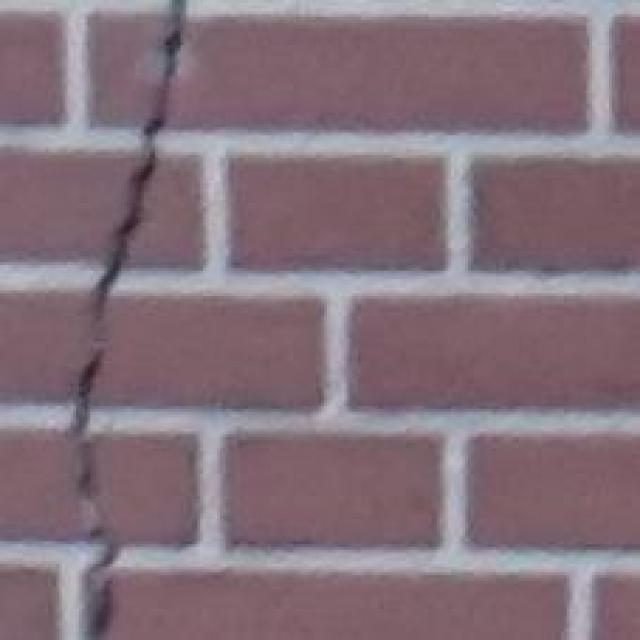Crack: (59, 8, 179, 640)
